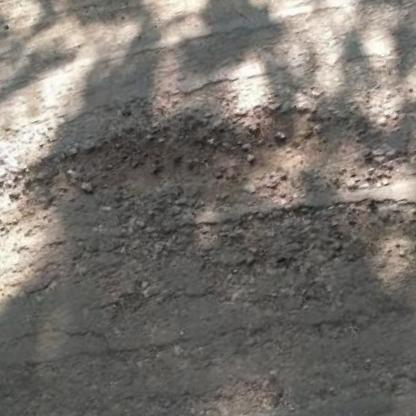pothole: (0, 39, 386, 302)
